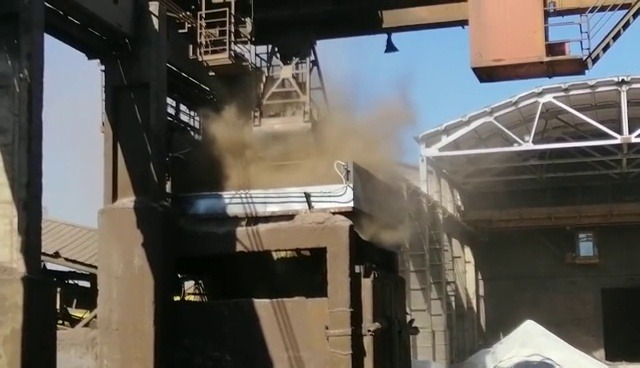dust: (212, 88, 430, 255)
grab: (250, 41, 334, 144)
